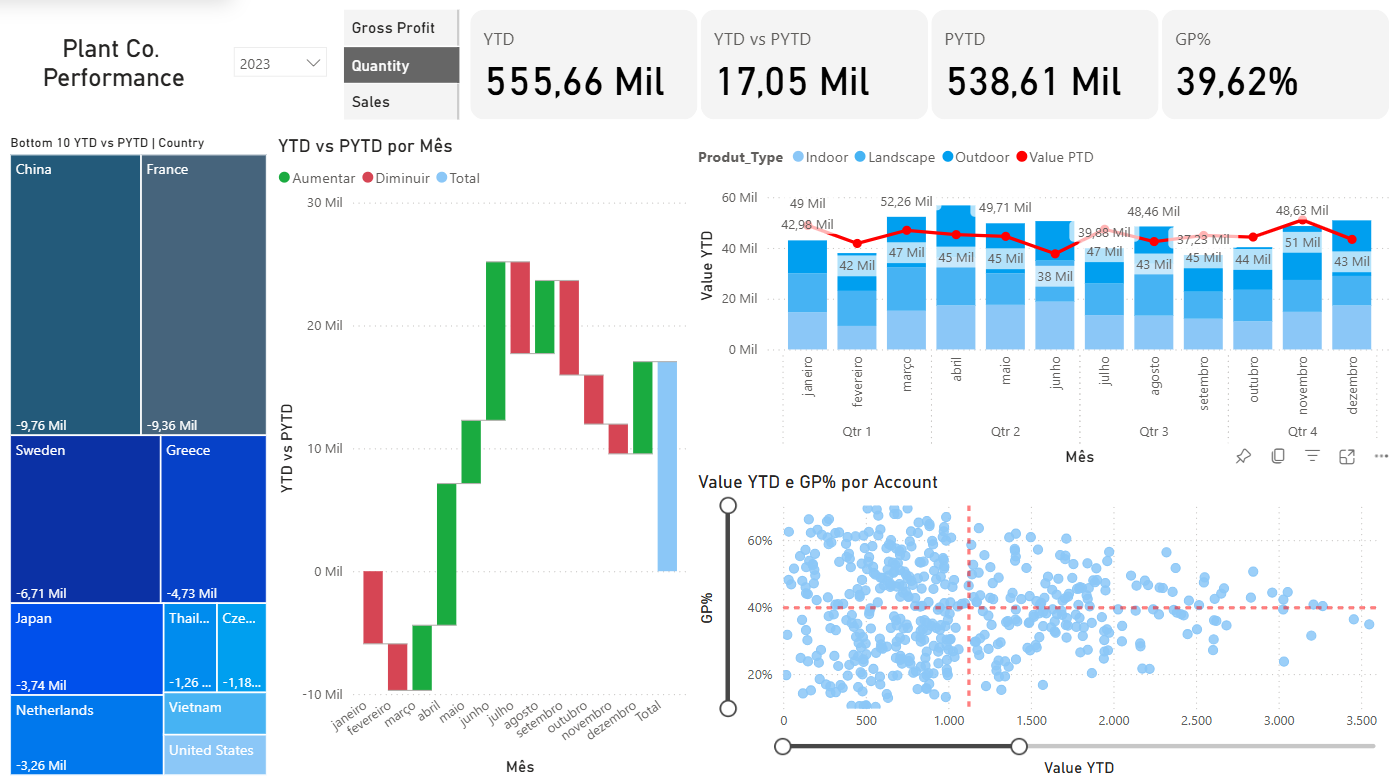

The page's visual inventory and layout, read from the dashboard file:
{"tool":"powerbi","page":{"name":"Página 2","canvas":[1280,720],"ordinal":0},"visuals":[{"type":"cardVisual","fields":{"Data":["_Measures.S_YTD","_Measures.YTD vs PYTD","_Measures.S_PYTD","_Measures.GP%"]},"box":[423.1,7.3,857.2,111.3],"z":0},{"type":"advancedSlicerVisual","fields":{"Values":["Slc_Values.Values"]},"box":[306.9,7.3,116.2,111.3],"z":1000},{"type":"slicer","title":"Ano","fields":{"Values":["Dim_Date.Date.Variation.Hierarquia de datas.Ano1"]},"box":[200.5,35.5,106.4,50.1],"z":2000},{"type":"treemap","title":"Bottom 10 YTD vs PYTD | Country","fields":{"Values":["_Measures.YTD vs PYTD"],"Group":["Dim_Account.country"]},"box":[0,126,245.8,594.3],"z":3000},{"type":"waterfallChart","fields":{"Category":["Dim_Date.Date.Variation.Hierarquia de datas.Mês","Dim_Account.country","Dim_Product.Produt_Type","Dim_Product.Product_Name"],"Y":["_Measures.YTD vs PYTD"]},"box":[245.8,126,386.4,594.3],"z":4000},{"type":"lineStackedColumnComboChart","fields":{"Y":["_Measures.S_YTD"],"Y2":["_Measures.S_PYTD"],"Category":["Dim_Date.Date.Variation.Hierarquia de datas.Trimestre","Dim_Date.Date.Variation.Hierarquia de datas.Mês"],"Series":["Dim_Product.Produt_Type"]},"box":[632.2,126,648.1,309.4],"z":5000},{"type":"scatterChart","fields":{"X":["_Measures.S_YTD"],"Y":["_Measures.GP%"],"Category":["Dim_Account.Account"]},"box":[632.2,435.3,648.1,284.9],"z":6000},{"type":"card","fields":{"Values":["_Measures._Chart Title"]},"box":[0,0,200.5,118.6],"z":6001}]}

Visuals, with their boxes in screenshot pixels (x1, y1, x2, y2), scaled from the page's 1280x720 canvas onto the 1399x776 screenshot:
cardVisual - _Measures.S_YTD x _Measures.YTD vs PYTD: BBox(462, 8, 1398, 128)
advancedSlicerVisual - Slc_Values.Values: BBox(335, 8, 462, 128)
"Ano" slicer: BBox(219, 38, 335, 92)
"Bottom 10 YTD vs PYTD | Country" treemap: BBox(0, 136, 269, 775)
waterfallChart - Dim_Date.Date.Variation.Hierarquia de datas.Mês x Dim_Account.country: BBox(269, 136, 691, 775)
lineStackedColumnComboChart - _Measures.S_YTD x _Measures.S_PYTD: BBox(691, 136, 1398, 469)
scatterChart - _Measures.S_YTD x _Measures.GP%: BBox(691, 469, 1398, 775)
card - _Measures._Chart Title: BBox(0, 0, 219, 128)
